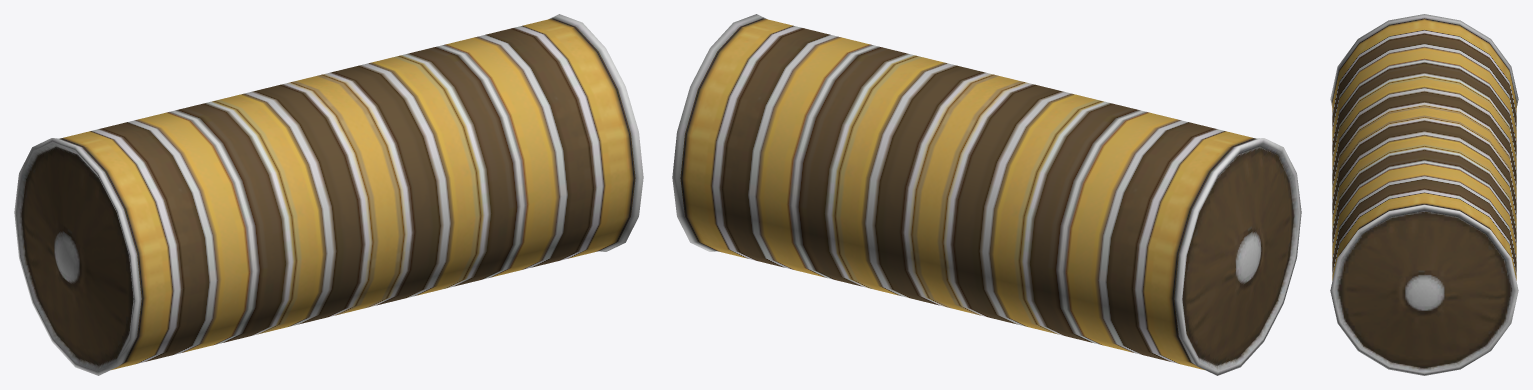
The model's file is p6_pillow_boat_long_01_lod1.glb.
3 renders of one model, left to right at view 1: azimuth 30°, elevation 25°; view 2: azimuth 150°, elevation 25°; view 3: azimuth 270°, elevation 25°, orthographic. The views are drawn at different scales.
Parts seen in each view (by area): view 1: surf0; view 2: surf0; view 3: surf0.
Part boxes in pixels (left/top/right/bottom): surf0: left=14, top=14, right=643, bottom=375; surf0: left=672, top=14, right=1301, bottom=375; surf0: left=1330, top=14, right=1518, bottom=375.
Bounding box in the file's own units: 30.08 × 11.94 × 11.94.
